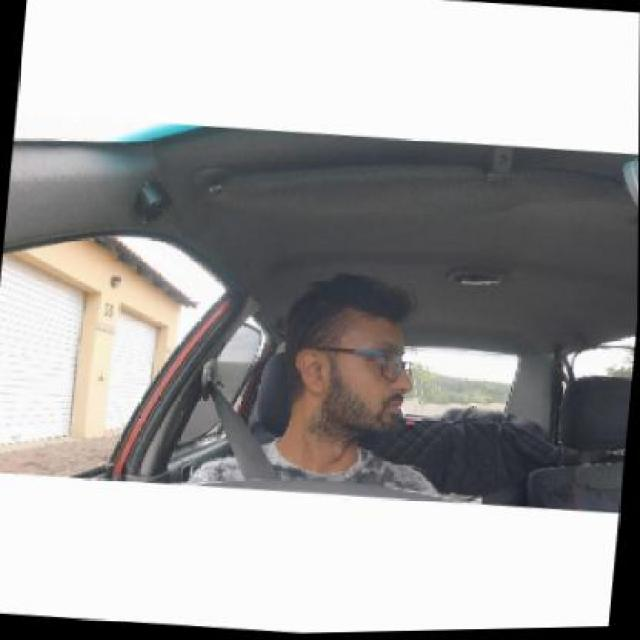LeftRight: (276, 290, 418, 447)
